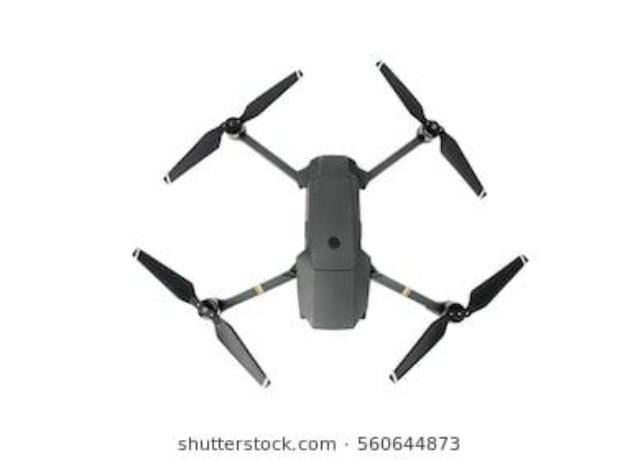drone: (116, 60, 540, 400)
